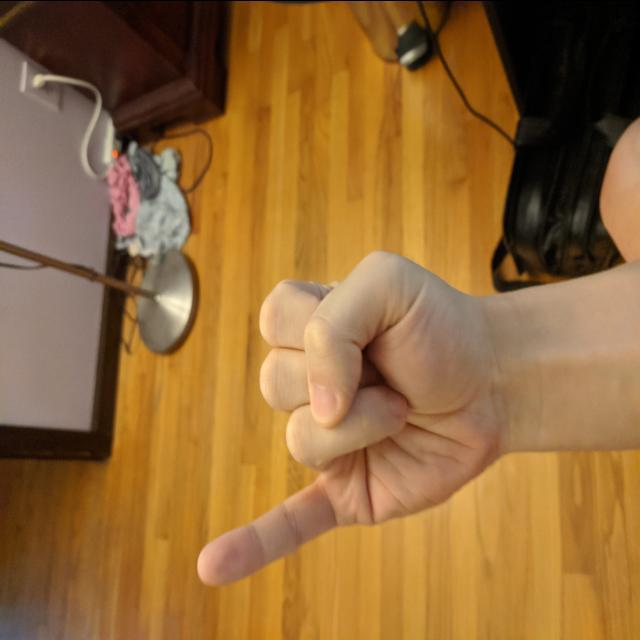I: (192, 240, 516, 592)
